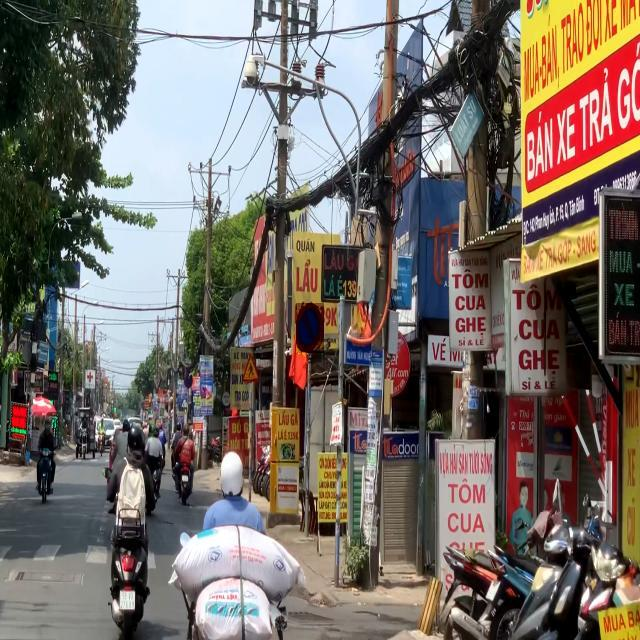P-131a: (296, 303, 324, 353)
W-224: (242, 353, 260, 381)
